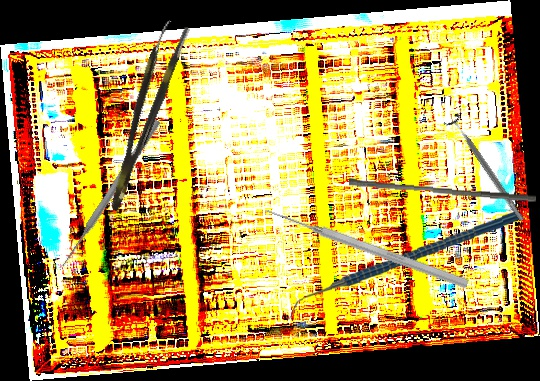Chopper: (283, 211, 523, 321)
Fixation Ring: (442, 112, 531, 226)
Pusher: (263, 203, 470, 291), (58, 117, 162, 270), (348, 178, 537, 202)
Tissue Forceps: (93, 18, 192, 213)
